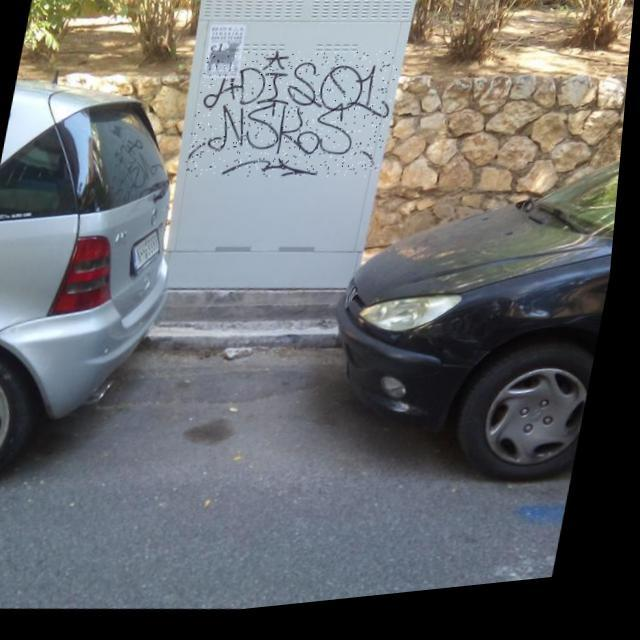-: (185, 39, 403, 201)
